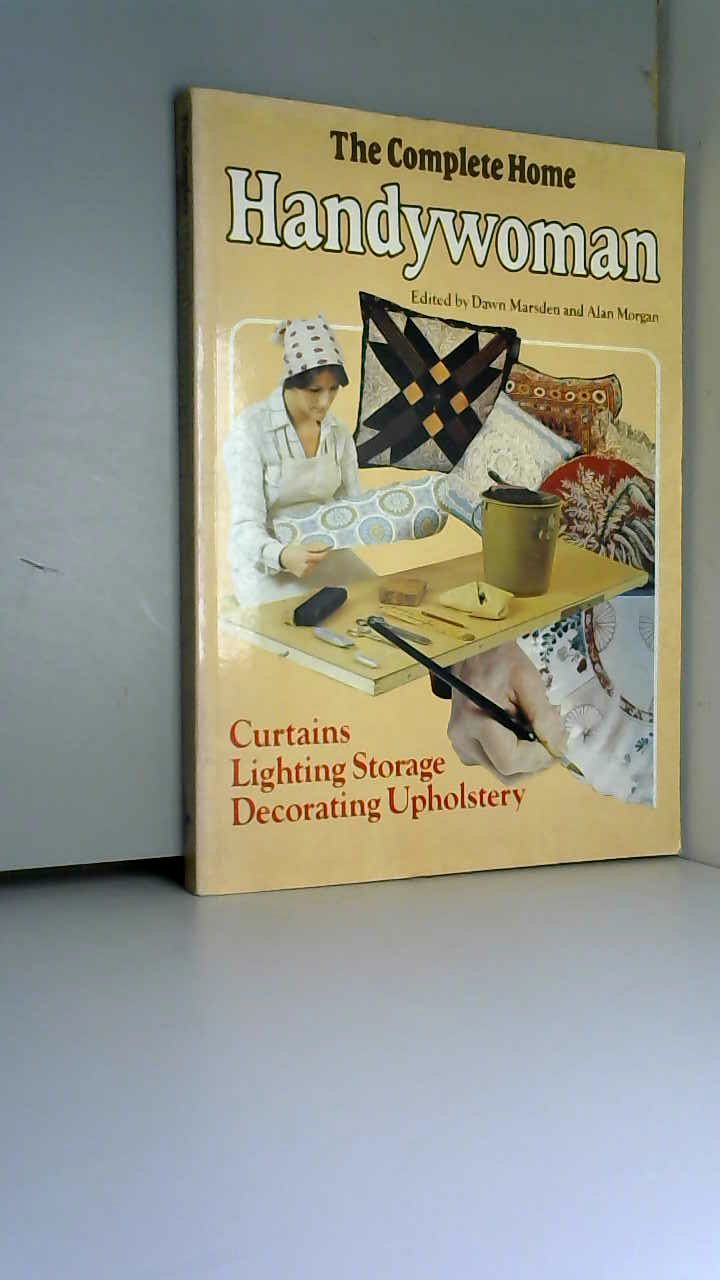book: (140, 60, 715, 918)
